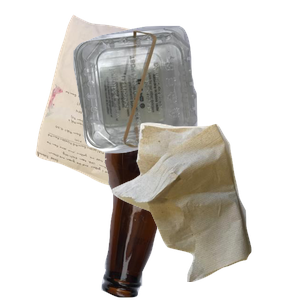glass: (99, 140, 300, 300)
paper: (33, 12, 214, 192)
plastic: (71, 23, 300, 169)
trash: (109, 120, 300, 300)
